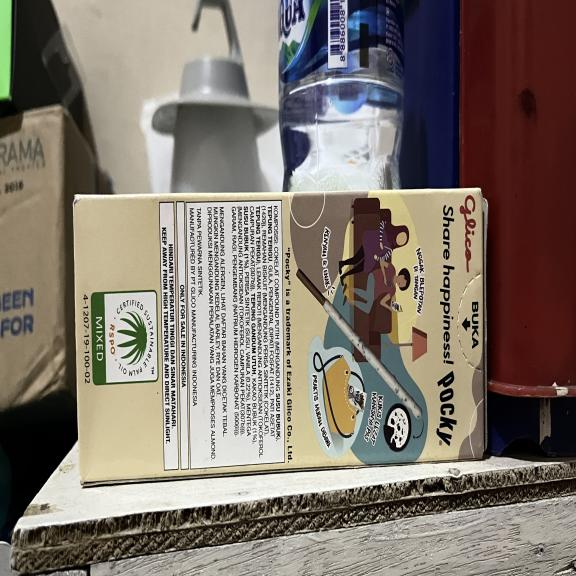Kertas: (71, 189, 487, 490)
